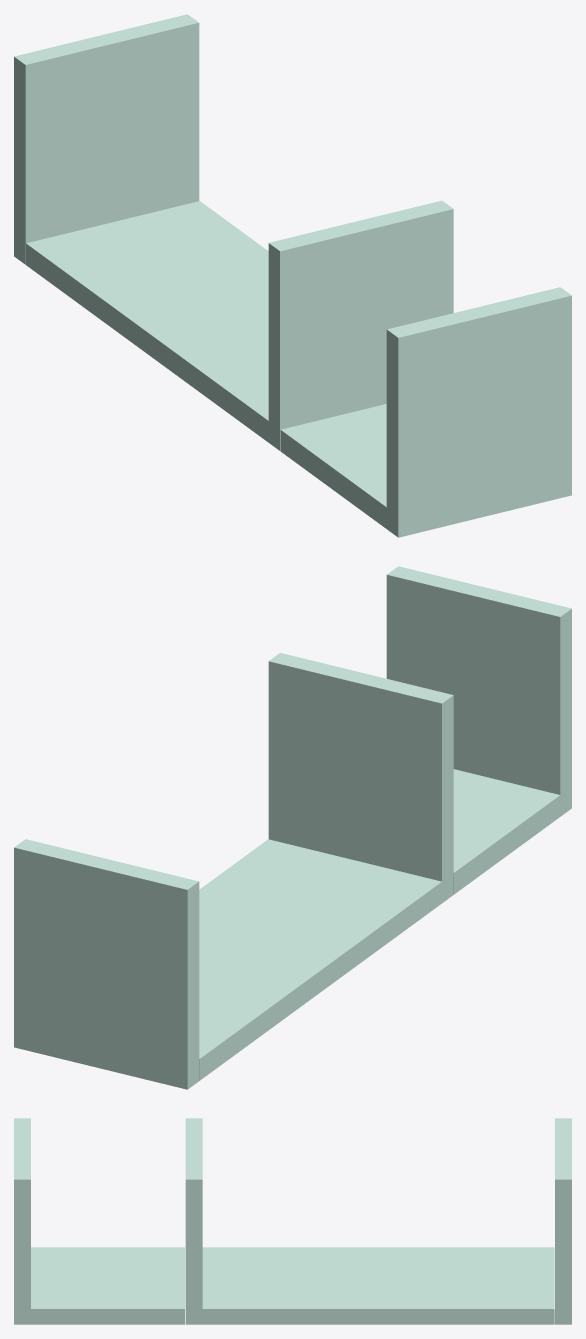
3 views of the same model, one above another, from view 1: azimuth 30°, elevation 25°; view 2: azimuth 150°, elevation 25°; view 3: azimuth 270°, elevation 25° (orthographic). The views are drawn at different scales.
Visible parts, largest first — view 1: Renderer Node; view 2: Renderer Node; view 3: Renderer Node.
Boxes of the visible parts, bbox=[...] form: Renderer Node: bbox=[14, 14, 571, 537]; Renderer Node: bbox=[14, 566, 571, 1089]; Renderer Node: bbox=[14, 1118, 571, 1324].
Size of the model in its own units: 0.3913 by 0.4297 by 1.5.
